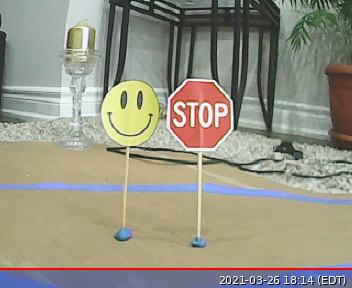Person: (100, 79, 159, 149)
Stop Sign: (166, 79, 233, 152)
